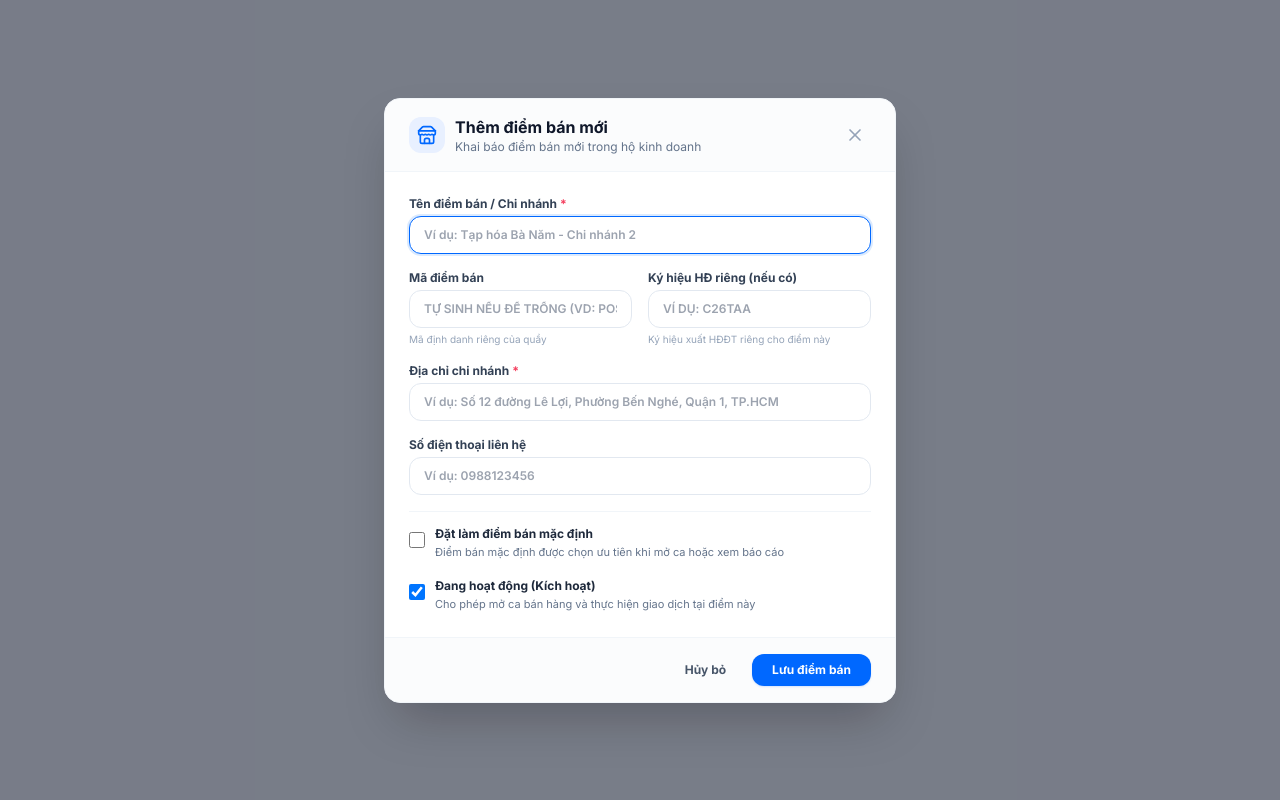
Test: PointOfSale Module (NCL-17-CN-001 & NCL-17-CN-002) › validates required fields in PointOfSaleModal and prevents submit if empty
Click the button "Lưu điểm bán". click: click(812, 670)
box: [752,654,871,686]
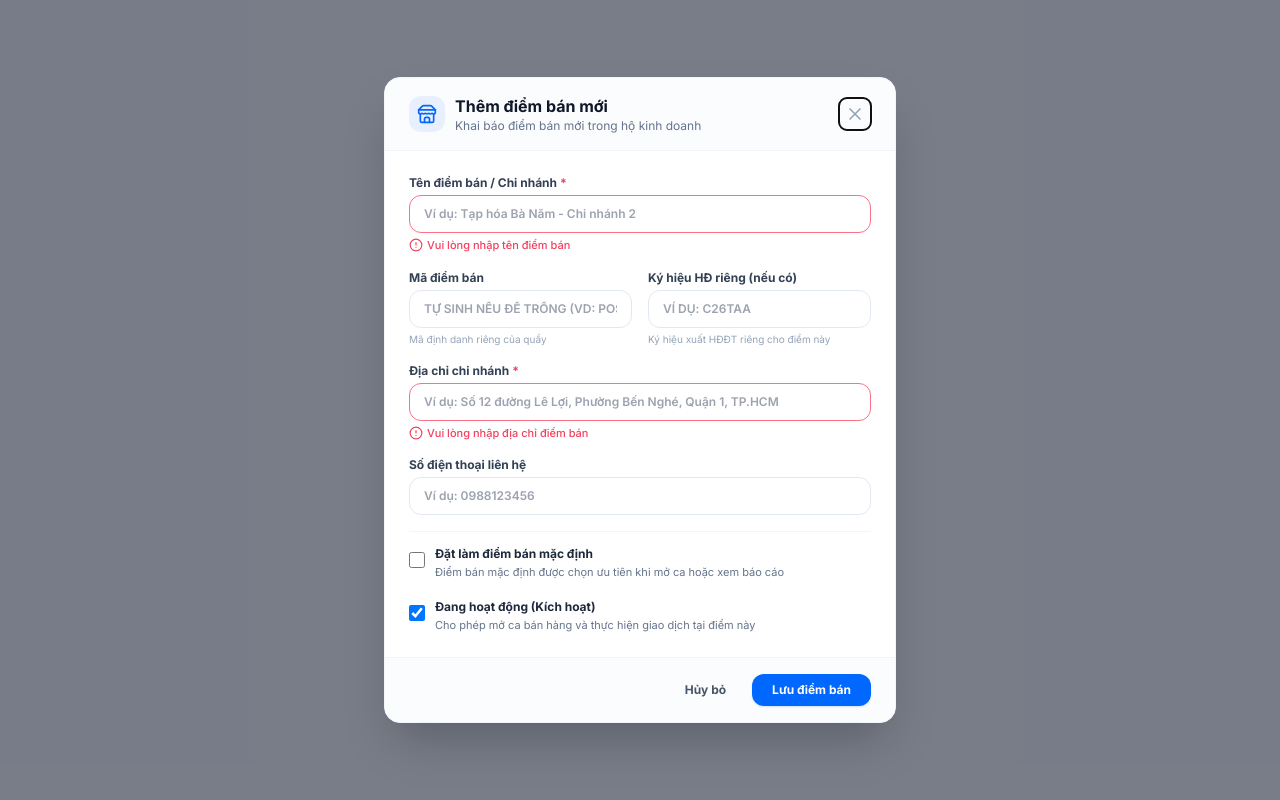
expect the text "Vui lòng nhập tên điểm bán" is shown: met, box [409,238,570,252]
